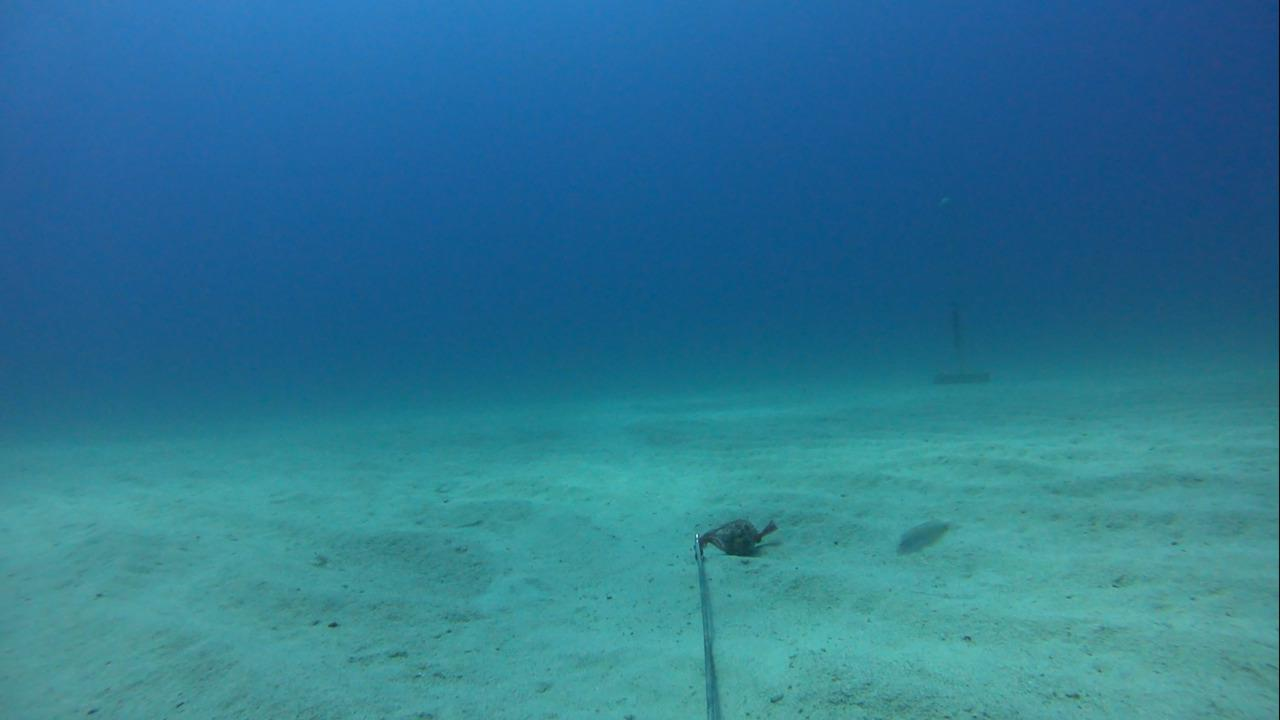raor: (880, 510, 958, 563)
